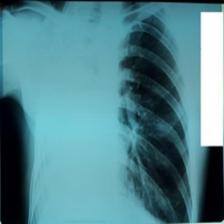tuberculosis: (25, 4, 198, 224)
